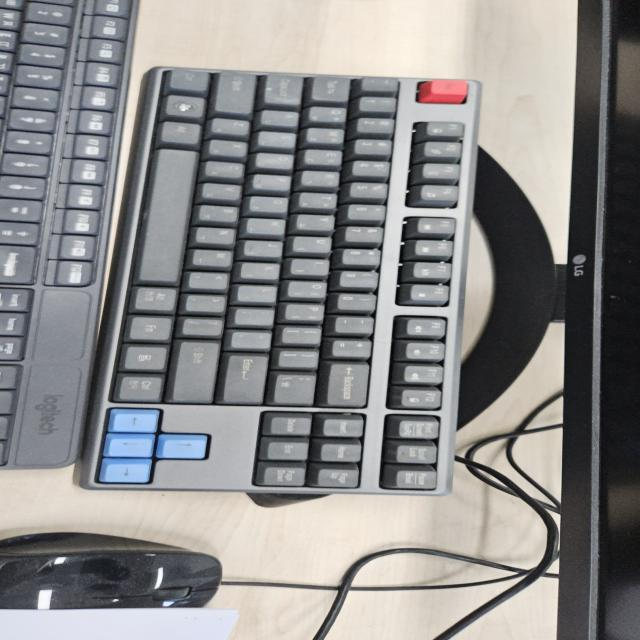Keyboard: (75, 64, 481, 496)
Mouse: (2, 530, 225, 610)
